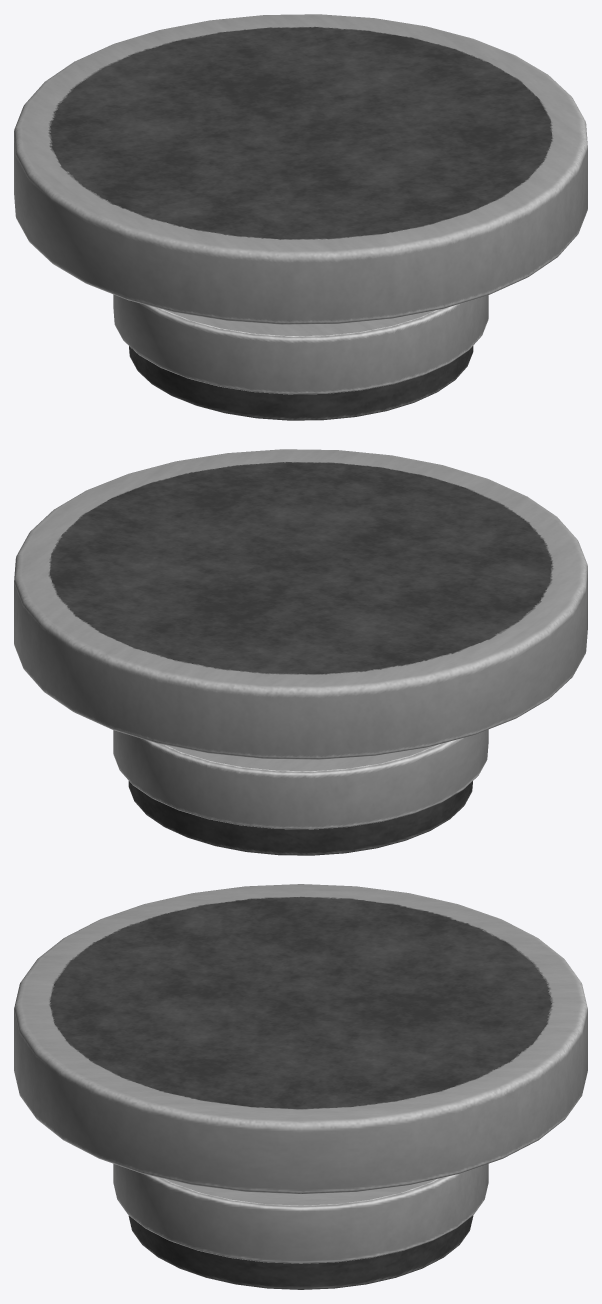
Rendered from tutupRadiator.glb.
3 views of the same model, one above another, from view 1: azimuth 30°, elevation 25°; view 2: azimuth 150°, elevation 25°; view 3: azimuth 270°, elevation 25° (orthographic).
Parts seen in each view (by area): view 1: tutupRadiator; view 2: tutupRadiator; view 3: tutupRadiator.
Boxes of the visible parts, x1=… form: tutupRadiator: x1=14, y1=14, x2=587, y2=420; tutupRadiator: x1=14, y1=449, x2=587, y2=855; tutupRadiator: x1=14, y1=884, x2=587, y2=1289.
Size of the model in its own units: 2 by 0.9417 by 2.
1 material, 1 textured.
